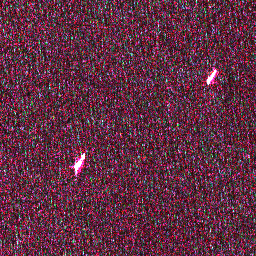ship: (72, 150, 87, 172), (204, 65, 219, 86)
